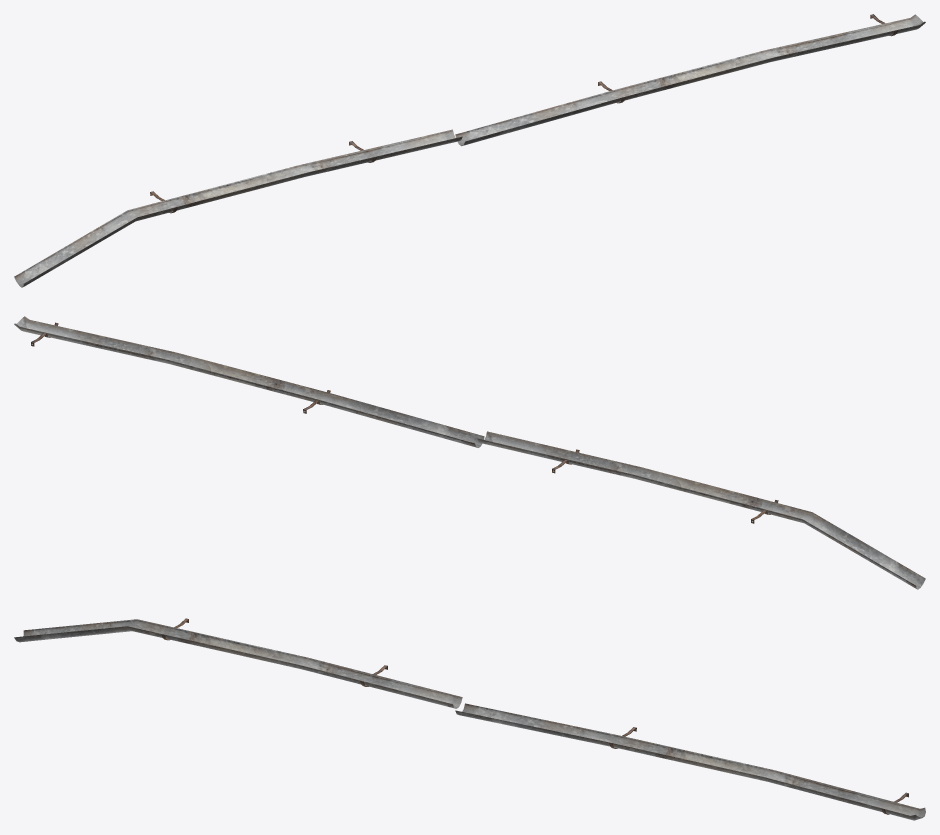
The model's file is Drain_01.fbx.
3 renders of one model, top to bottom at view 1: azimuth 30°, elevation 25°; view 2: azimuth 150°, elevation 25°; view 3: azimuth 330°, elevation 25°, orthographic.
Visible parts, largest first — view 1: Drain_01; view 2: Drain_01; view 3: Drain_01.
Boxes of the visible parts, left/top/right/bottom form: Drain_01: left=14, top=14, right=925, bottom=287; Drain_01: left=14, top=316, right=925, bottom=589; Drain_01: left=14, top=618, right=925, bottom=820.
Size of the model in its own units: 1445 by 69.43 by 76.99.
Materials: 1 (1 with a texture image).
